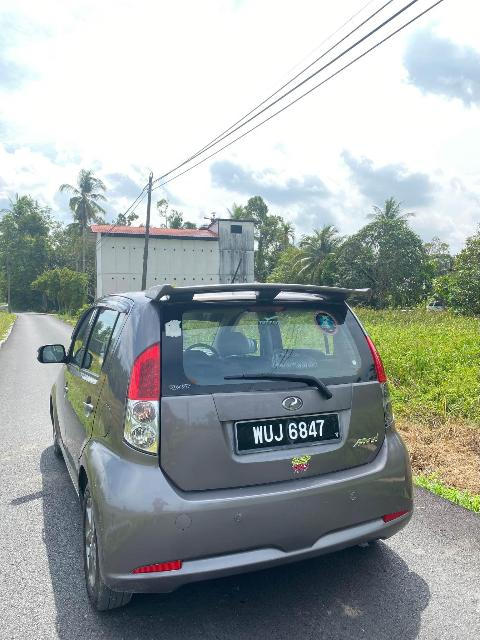License_Plate: (237, 414, 337, 452)
car: (34, 277, 416, 614)
